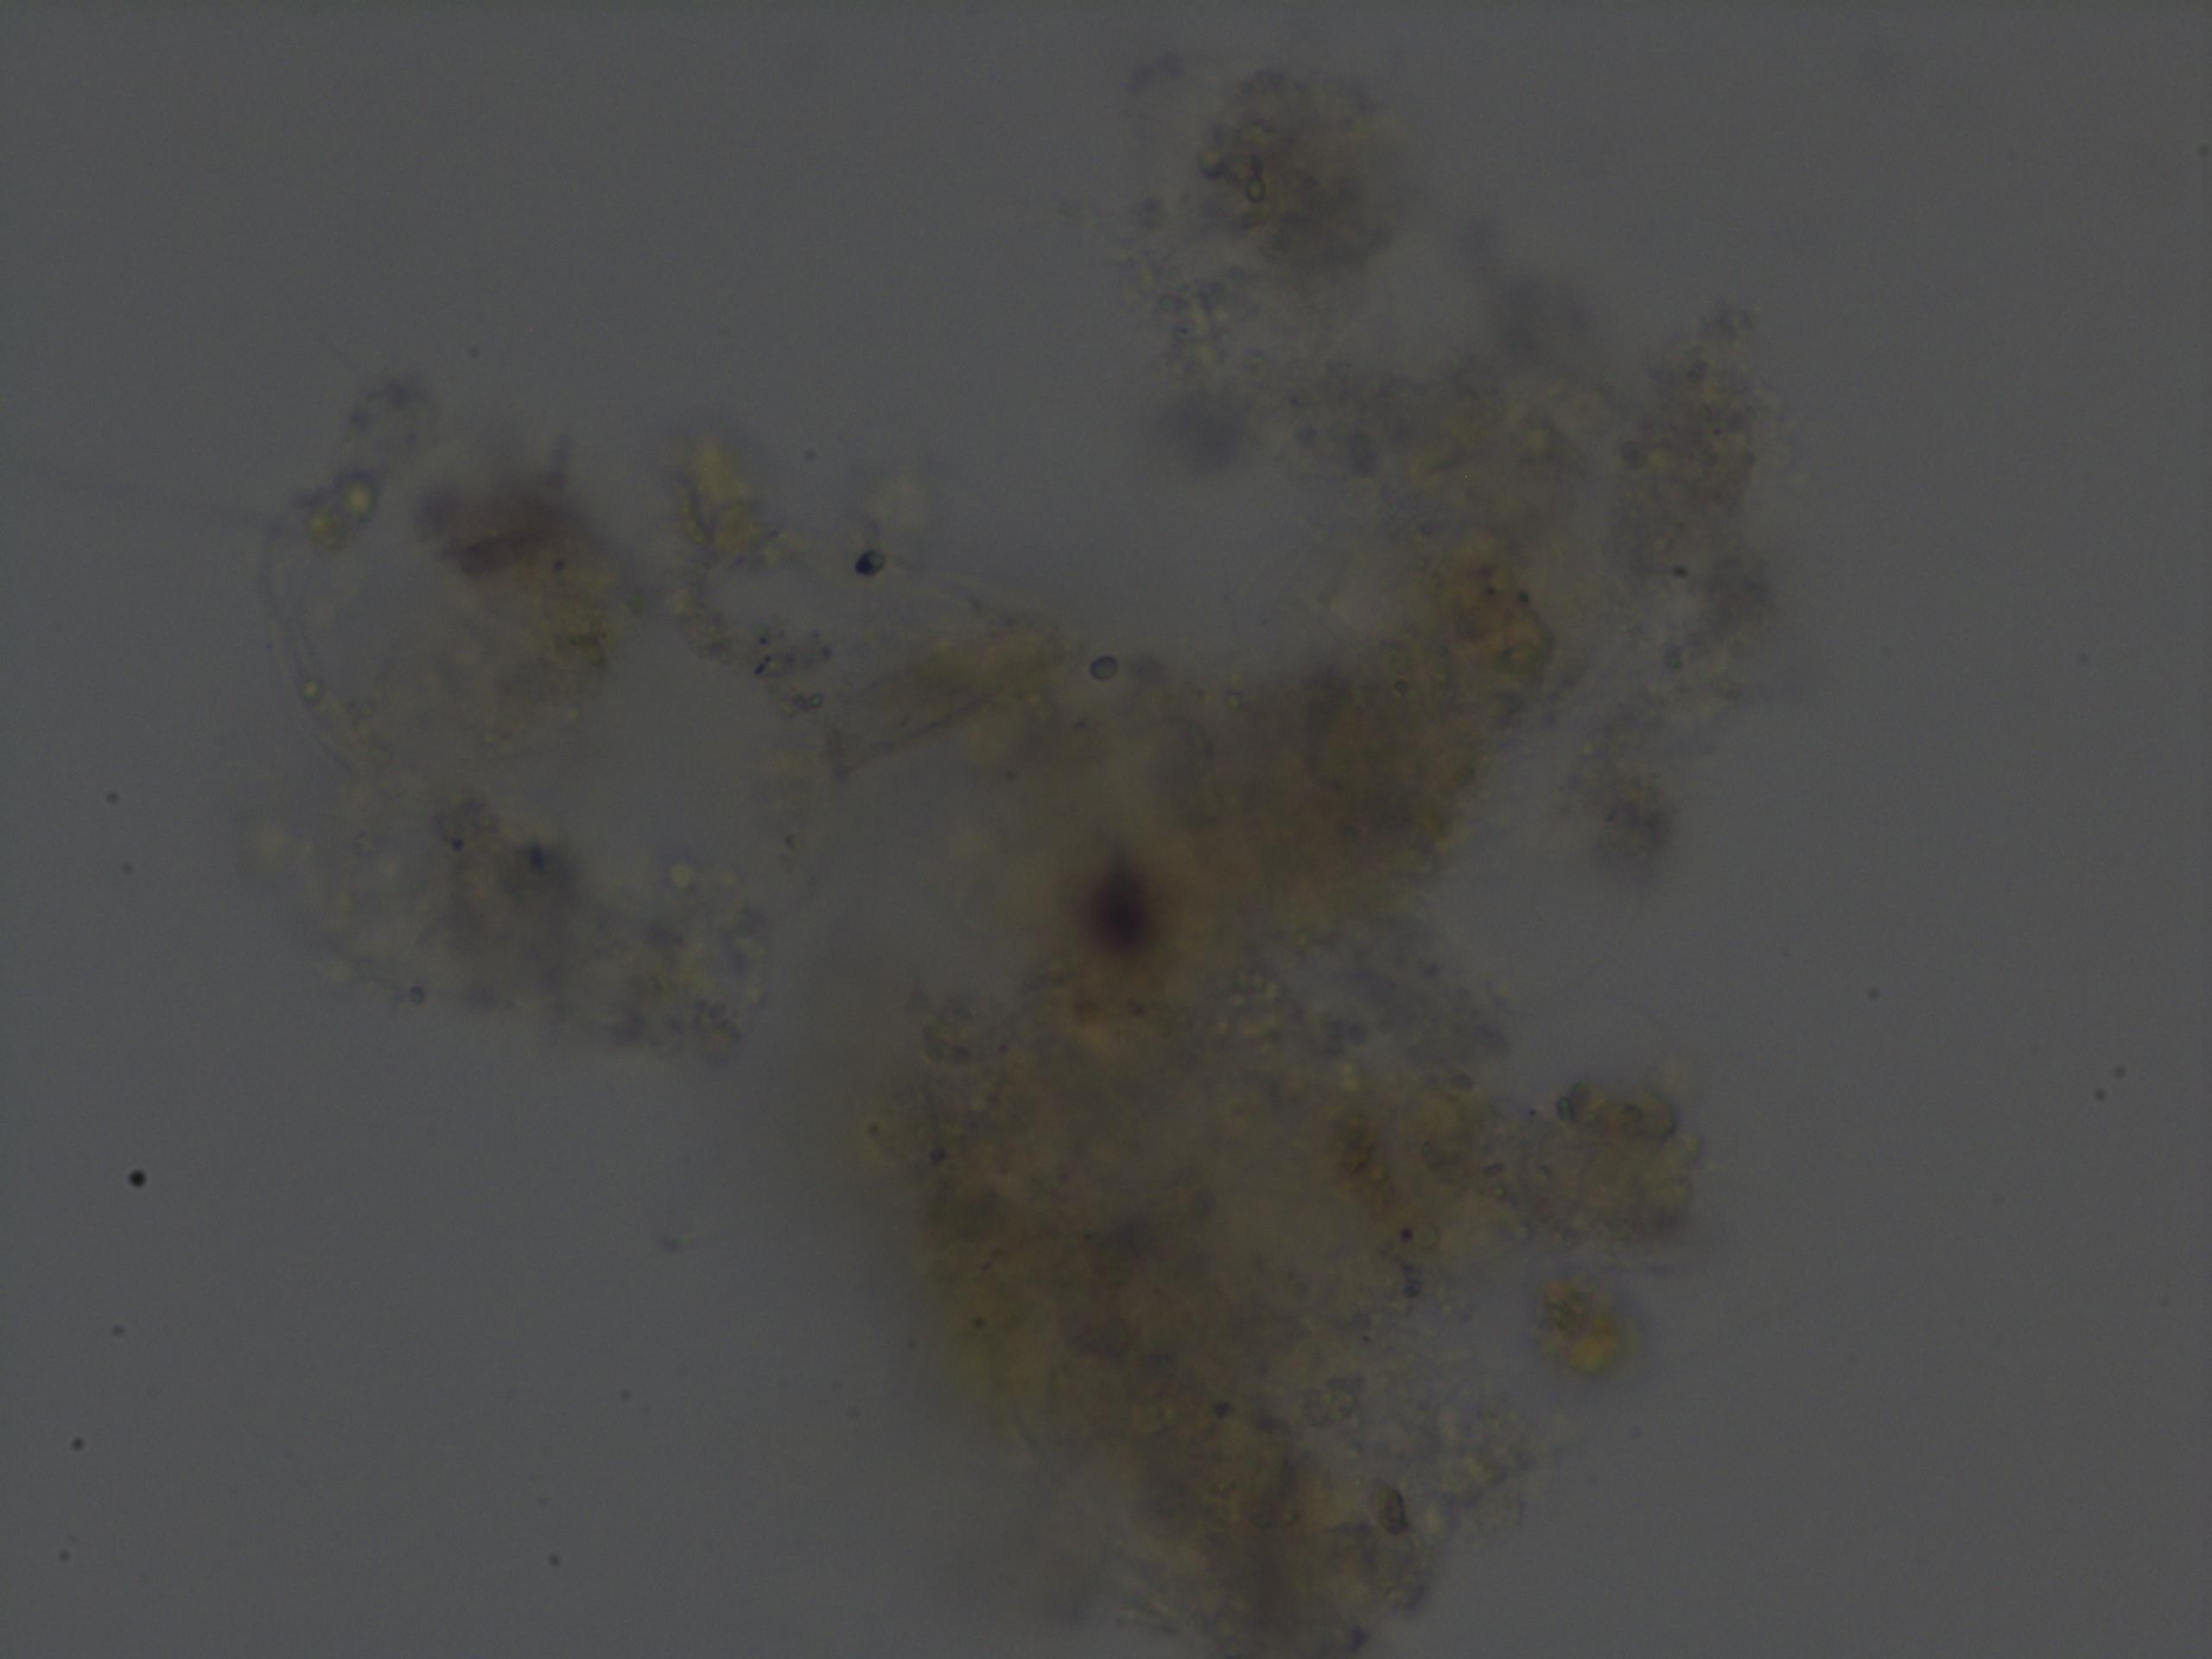open_floc: (242, 35, 1806, 1659)
